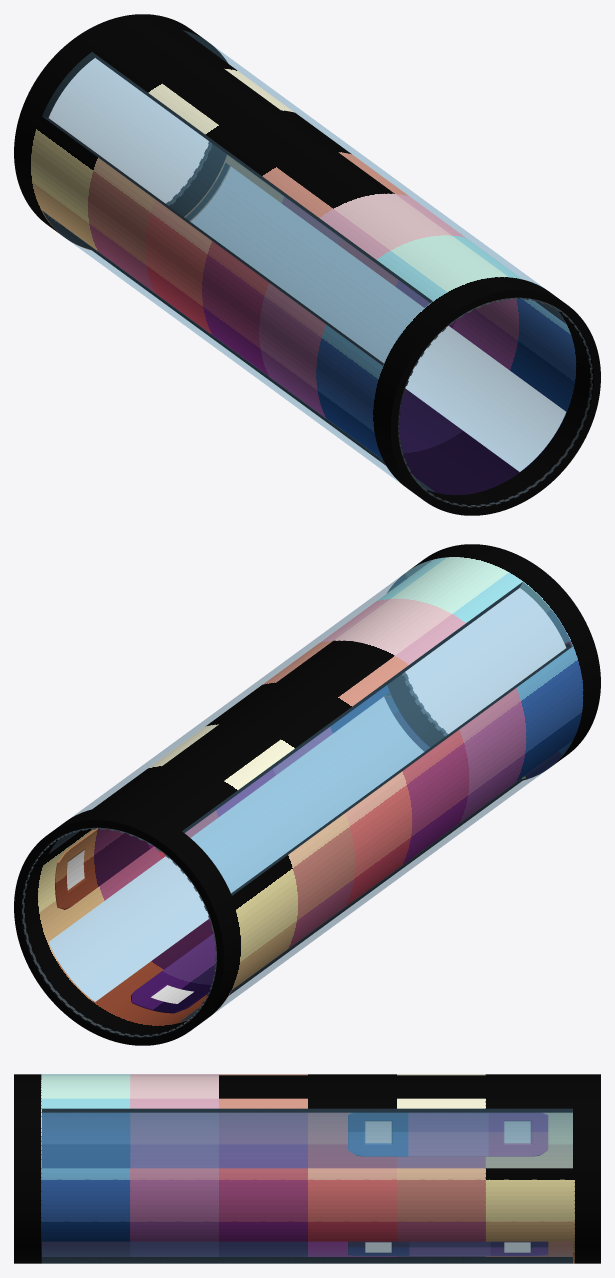
The model's file is LD50-Pipe-01.glb.
3 renders of one model, top to bottom at view 1: azimuth 30°, elevation 25°; view 2: azimuth 150°, elevation 25°; view 3: azimuth 270°, elevation 25°, orthographic. The views are drawn at different scales.
Visible parts, largest first — view 1: Pipe-01, Pipe-01-Joint; view 2: Pipe-01, Pipe-01-Props-01, Pipe-01-Joint; view 3: Pipe-01, Pipe-01-Props-01.
Part boxes in pixels (<box>): Pipe-01: <box>14,14,600,515</box>; Pipe-01-Joint: <box>45,141,592,507</box>; Pipe-01: <box>14,544,600,1045</box>; Pipe-01-Props-01: <box>55,828,216,1013</box>; Pipe-01-Joint: <box>22,672,447,1037</box>; Pipe-01: <box>14,1074,600,1263</box>; Pipe-01-Props-01: <box>348,1112,548,1255</box>.
Bounding box in the file's own units: 32.2 × 32.2 × 100.
4 materials, 3 textured.
